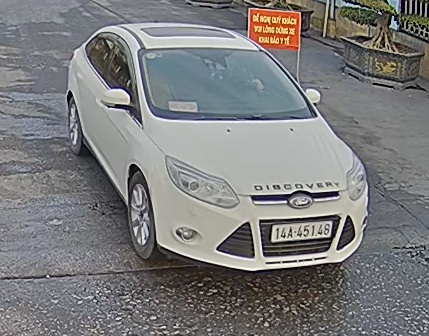vehicle plate: (268, 220, 336, 240)
